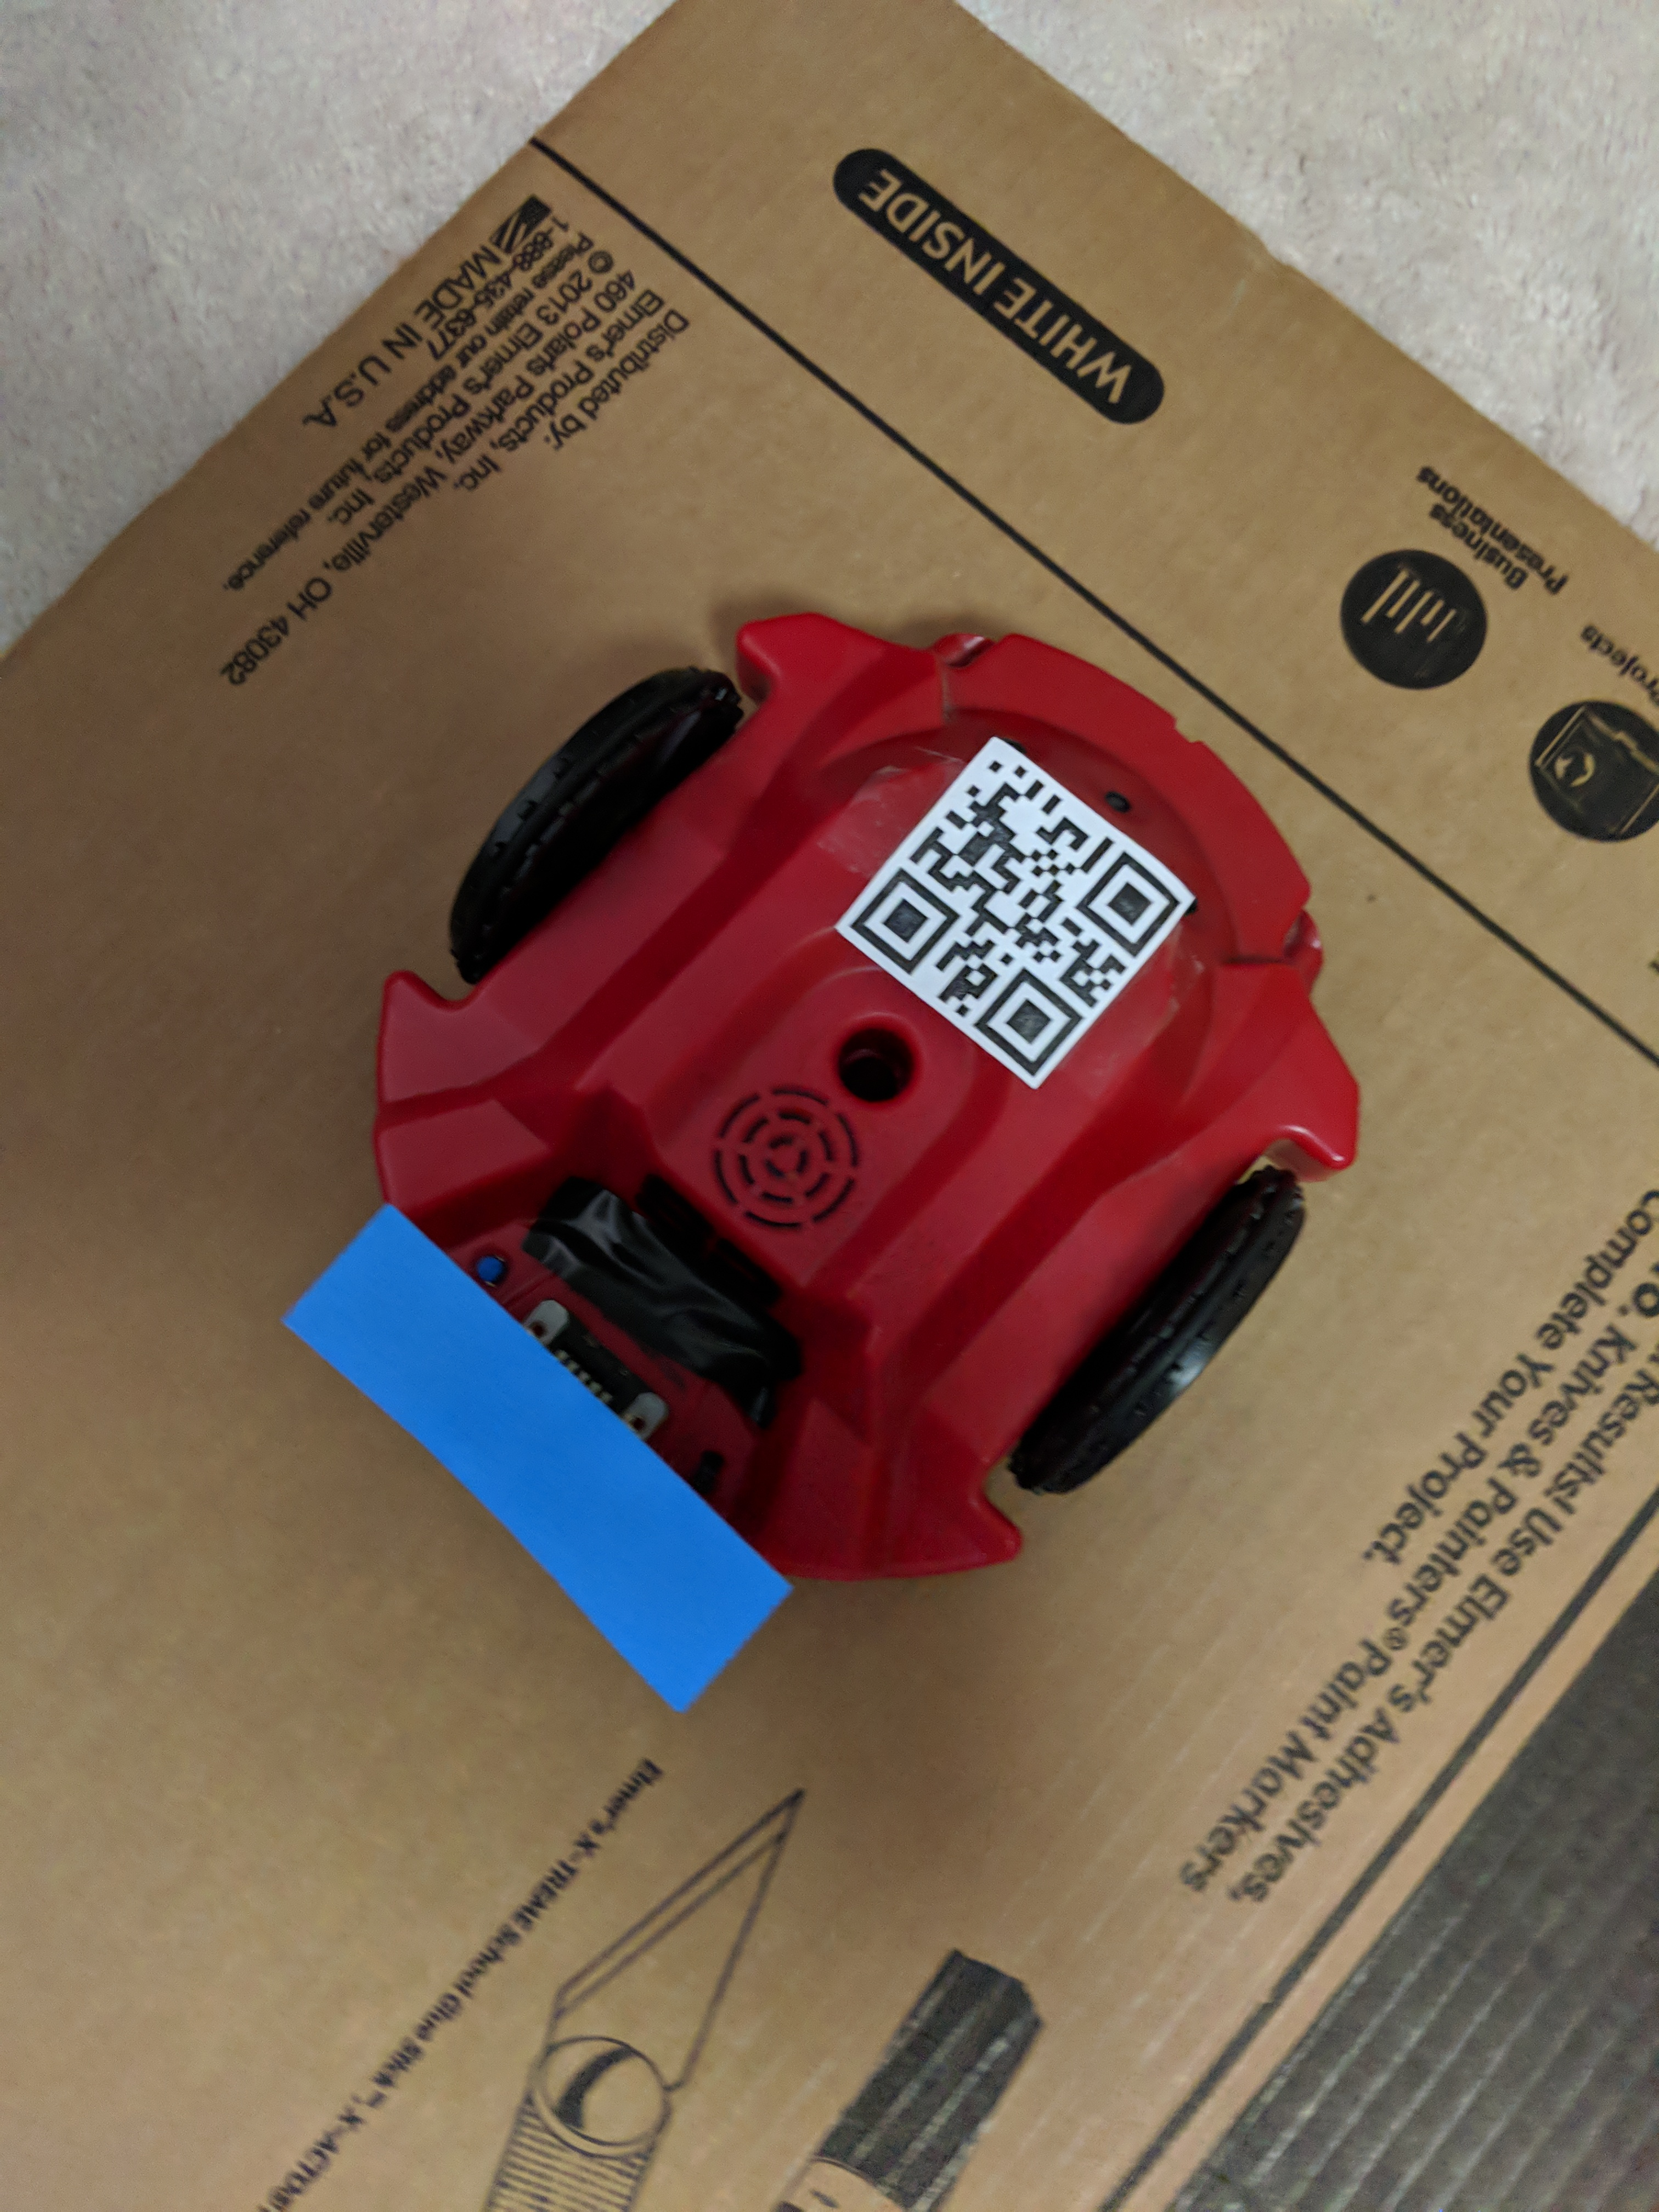chassis: (301, 601, 1399, 1609)
qr: (842, 719, 1208, 1106)
